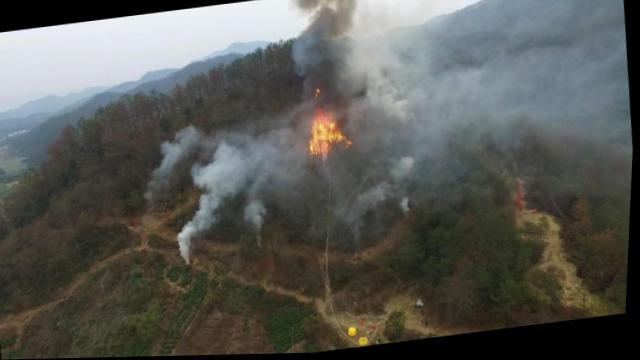fire: (273, 66, 381, 173)
